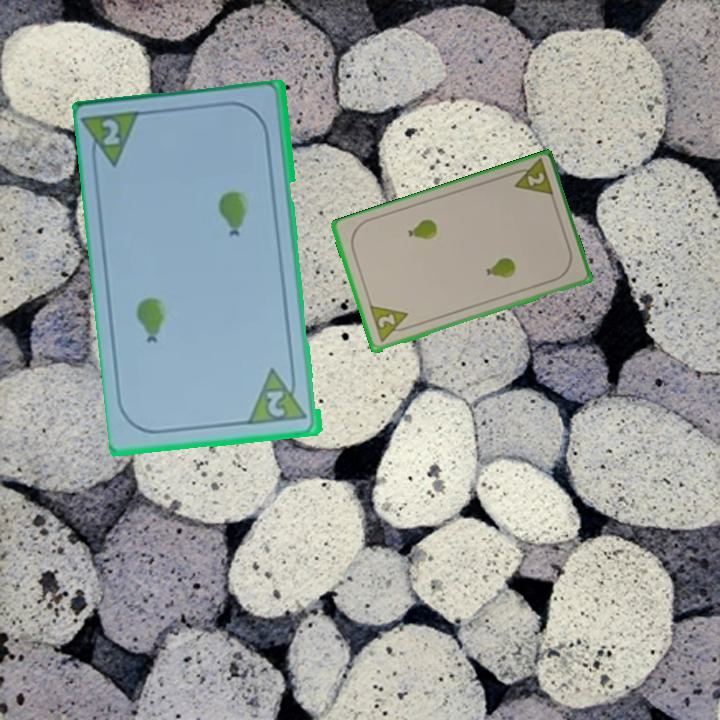2p: (366, 302, 415, 346), (506, 157, 556, 200), (97, 115, 124, 149), (263, 387, 290, 420)
